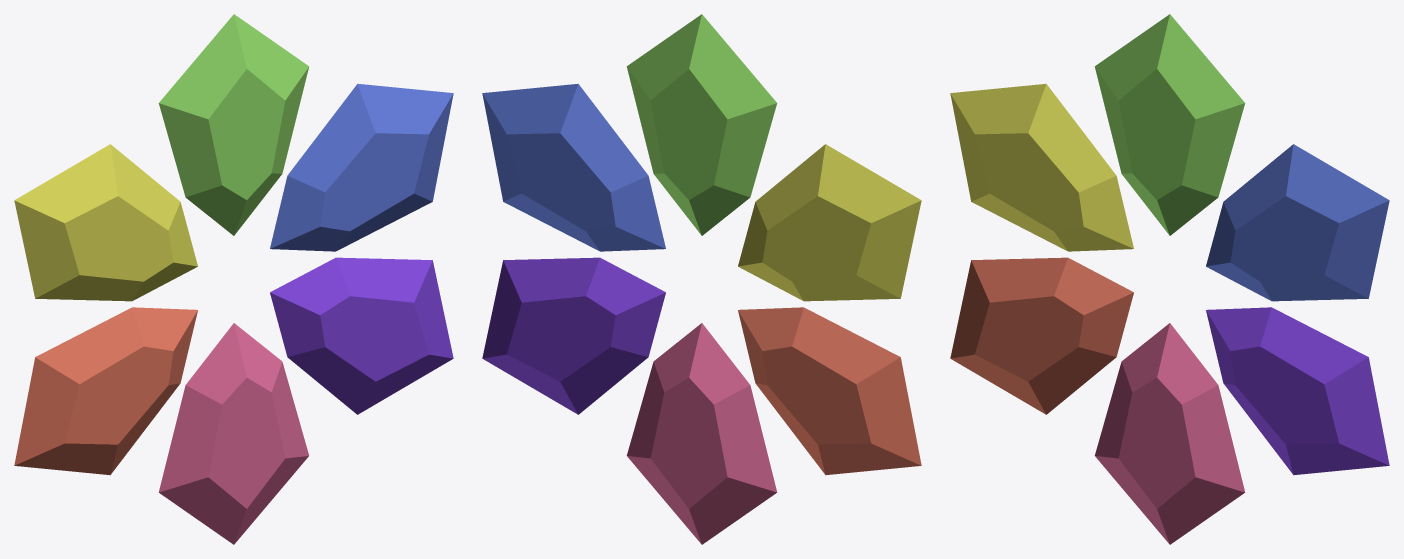
File: gem.glb
3 views of the same model, side by side, from view 1: azimuth 30°, elevation 25°; view 2: azimuth 150°, elevation 25°; view 3: azimuth 330°, elevation 25° (orthographic).
Parts seen in each view (by area): view 1: teapot; view 2: teapot; view 3: teapot.
Boxes of the visible parts, x1,y1,x2,y2 form: teapot: [14, 14, 453, 544]; teapot: [482, 14, 921, 544]; teapot: [950, 14, 1389, 544].
Bounding box in the file's own units: 12.76 × 14.74 × 1.3.
